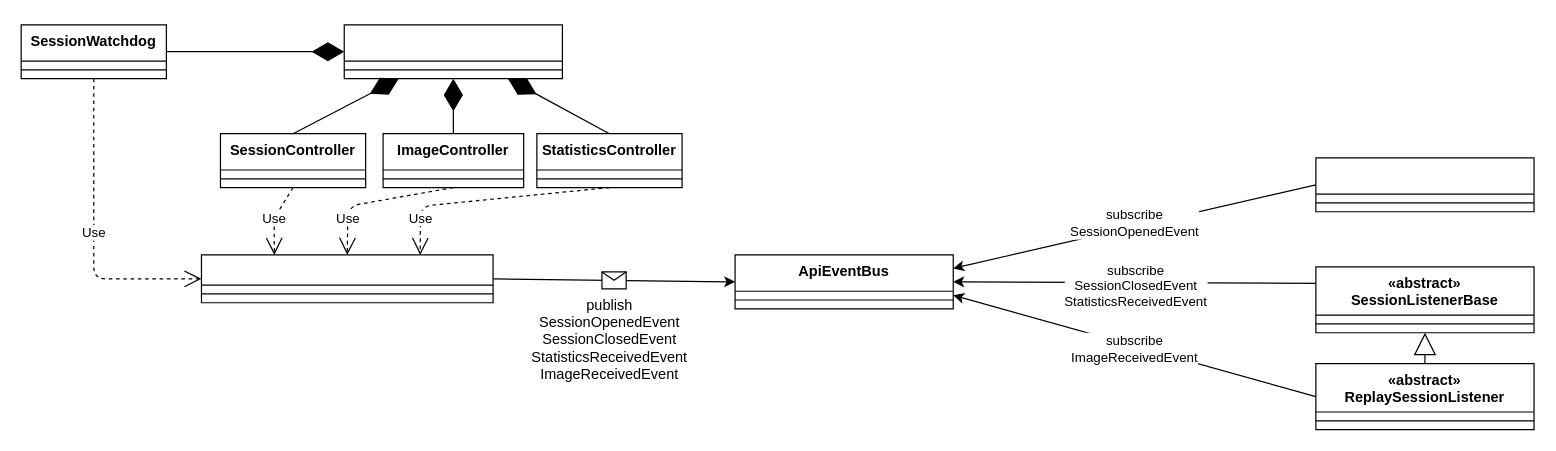
The diagram is 1556 pixels wide and 451 high, and some of its shapes have lost their labels. Each missing label, with the centre of its shape:
"SessionAdministration" belongs at pixel 346 278.
"SessionListenerFactory" belongs at pixel 1424 184.
"WebAPI" belongs at pixel 452 51.
